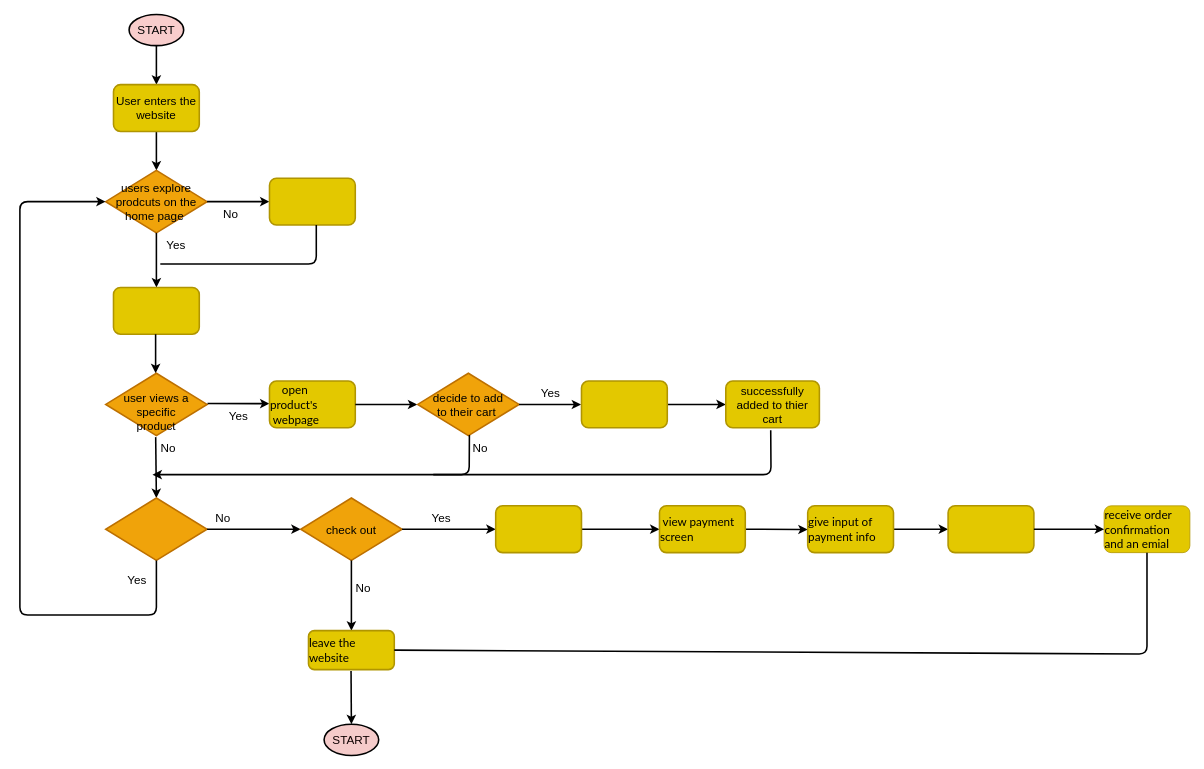
This 1204x769 diagram has some shape labels left out. Each missing label, with the centre of its shape:
paid: (990,529)
provide input to the website of their search: (312,201)
reach view cart screen: (538,529)
user begin looking over the products: (156,310)
user continues shopping: (156,529)
User receives added to cart confirmation: (624,404)
